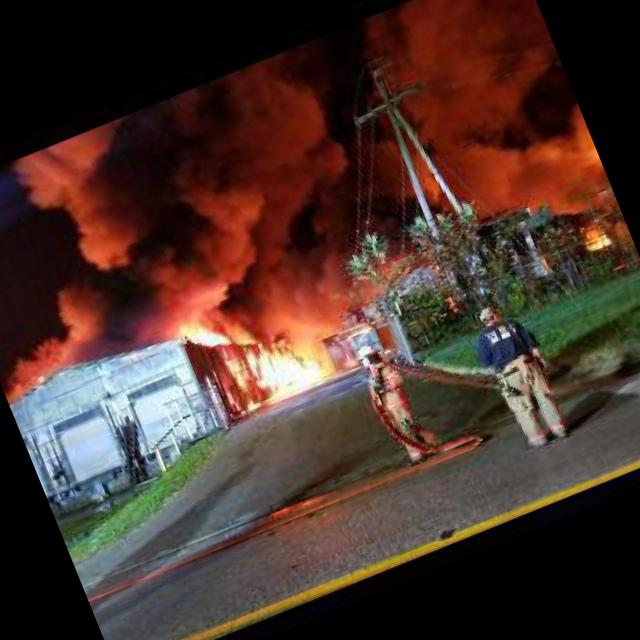fire: (230, 294, 342, 408), (175, 308, 246, 362)
smoke: (0, 43, 385, 382)
